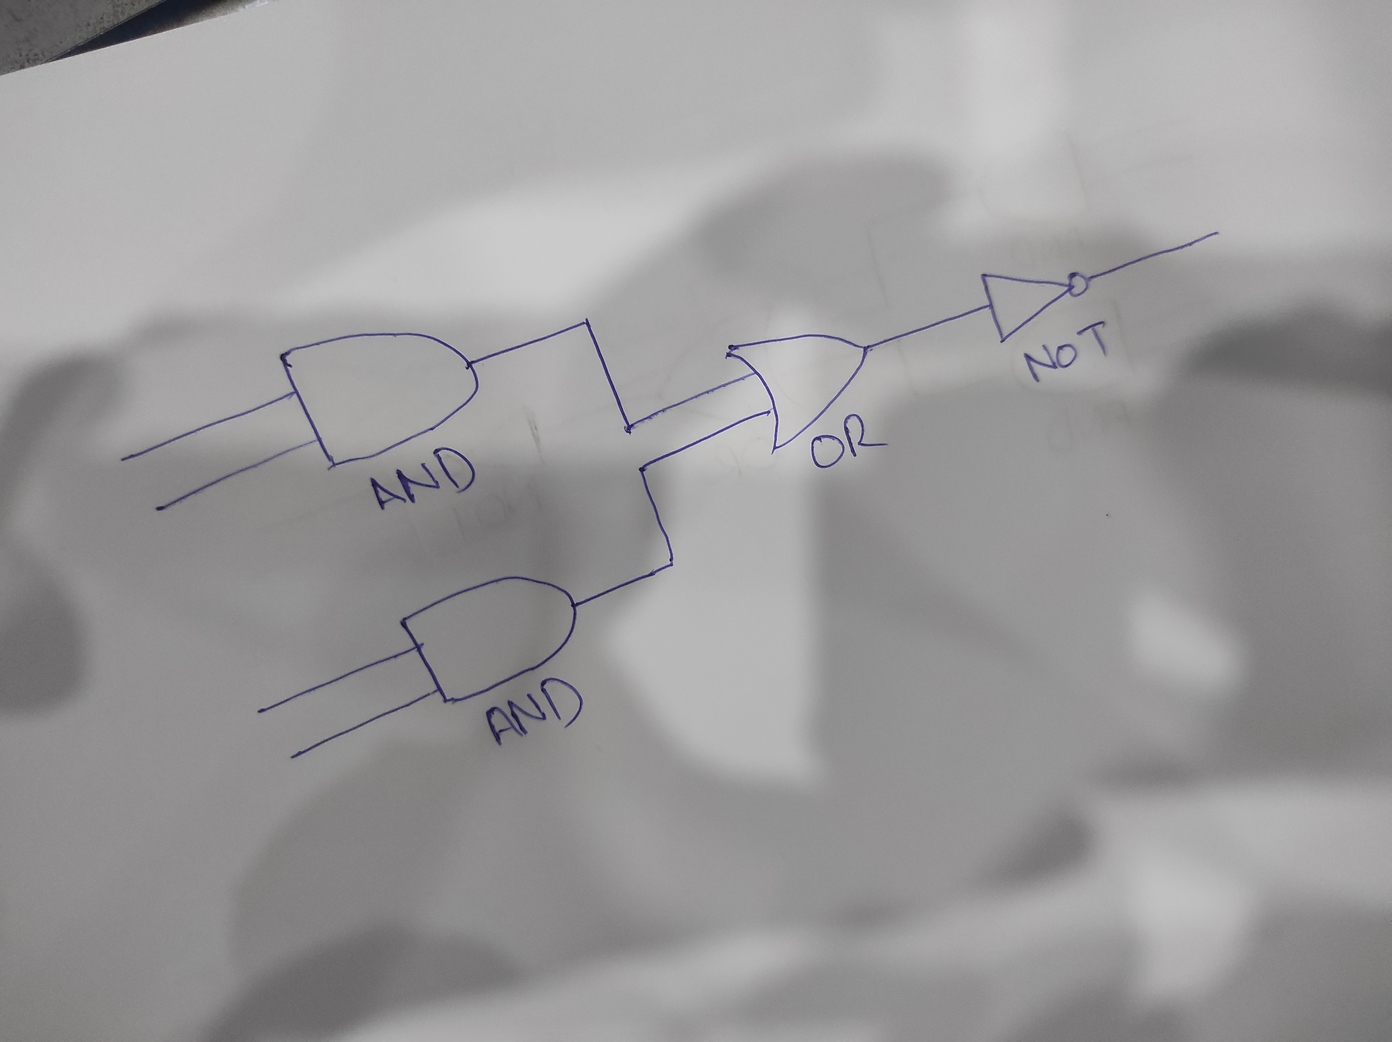and: (276, 325, 483, 473), (396, 572, 581, 706)
junction: (650, 545, 691, 584), (566, 308, 601, 345), (627, 452, 657, 479), (616, 416, 643, 440)
not: (977, 267, 1093, 345)
or: (722, 329, 873, 458)
terminal: (1193, 221, 1230, 248), (148, 501, 171, 518), (113, 451, 134, 467), (252, 703, 268, 720), (285, 749, 301, 765)
text: (483, 672, 587, 751), (369, 443, 480, 512), (1021, 319, 1111, 385), (807, 412, 892, 470)
